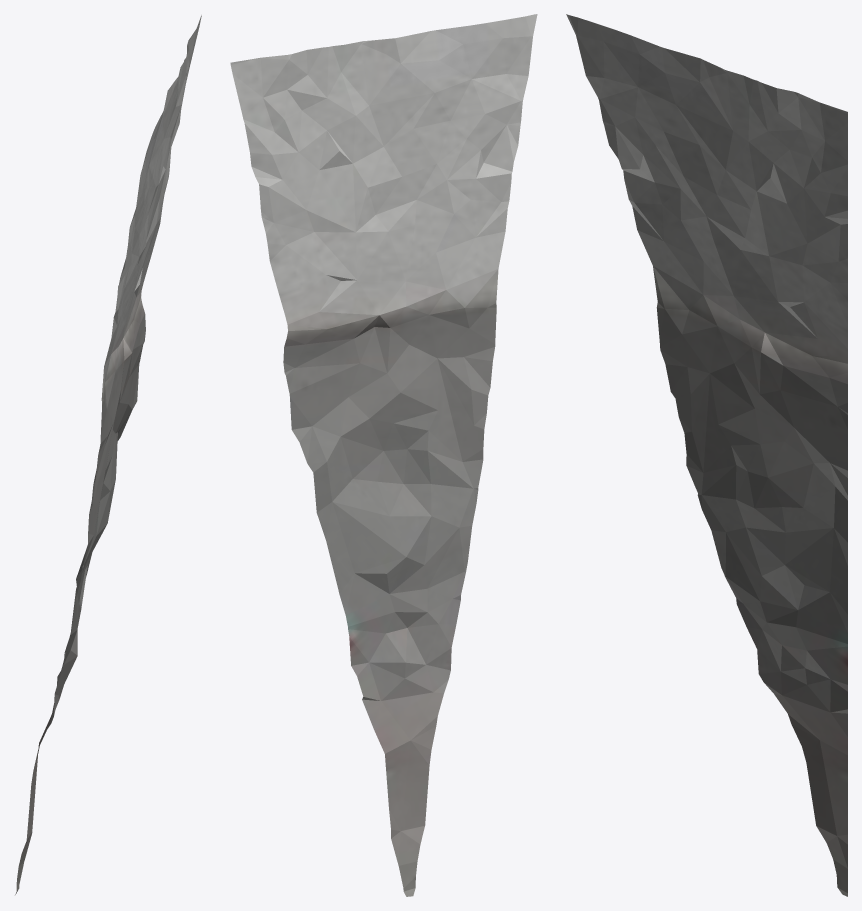
The picture shows the model from 3 angles, left to right: view 1: azimuth 30°, elevation 25°; view 2: azimuth 150°, elevation 25°; view 3: azimuth 270°, elevation 25°; orthographic projection. The views are drawn at different scales.
Size of the model in its own units: 0.1998 by 0.8374 by 0.243.
Materials: 1 (1 with a texture image).
